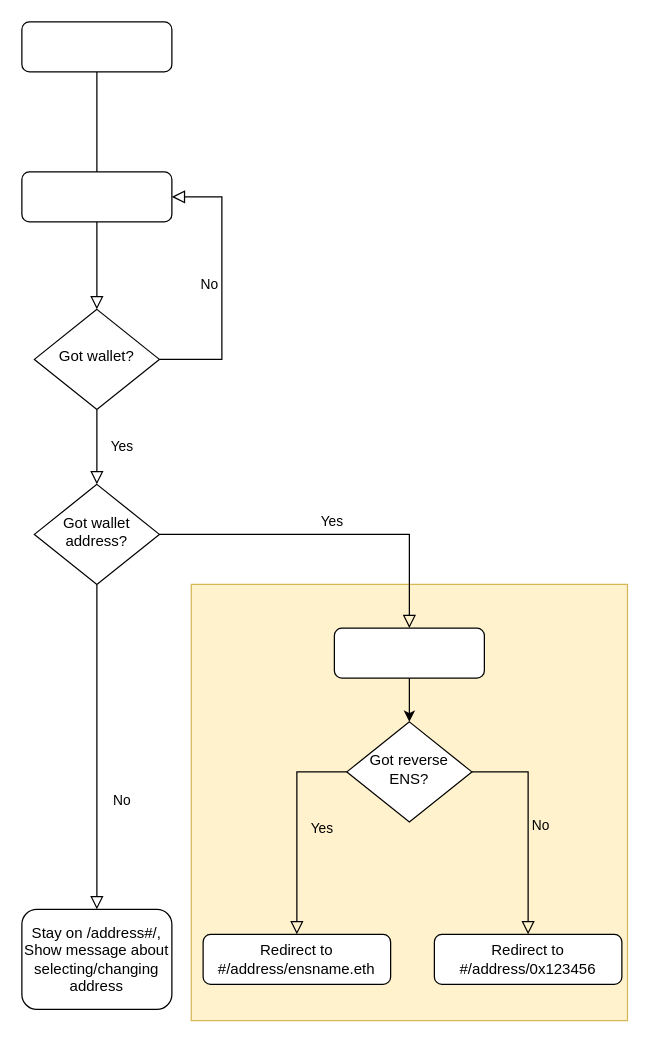
Image size: 650x1043. Some labels were removed from this diagram. Each missing label, with the box of its shape:
Look for reverse ENS: (333, 627, 484, 678)
start without address parameter: (21, 21, 172, 72)
Wait for wallet selection: (21, 171, 172, 222)
